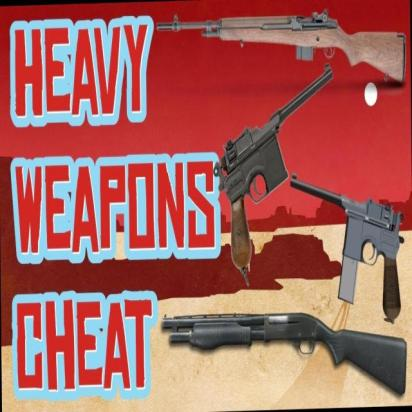Gun: (155, 2, 407, 95)
